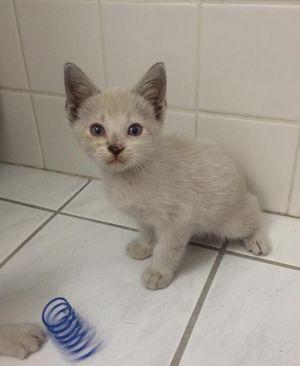siamese: (58, 56, 176, 182)
